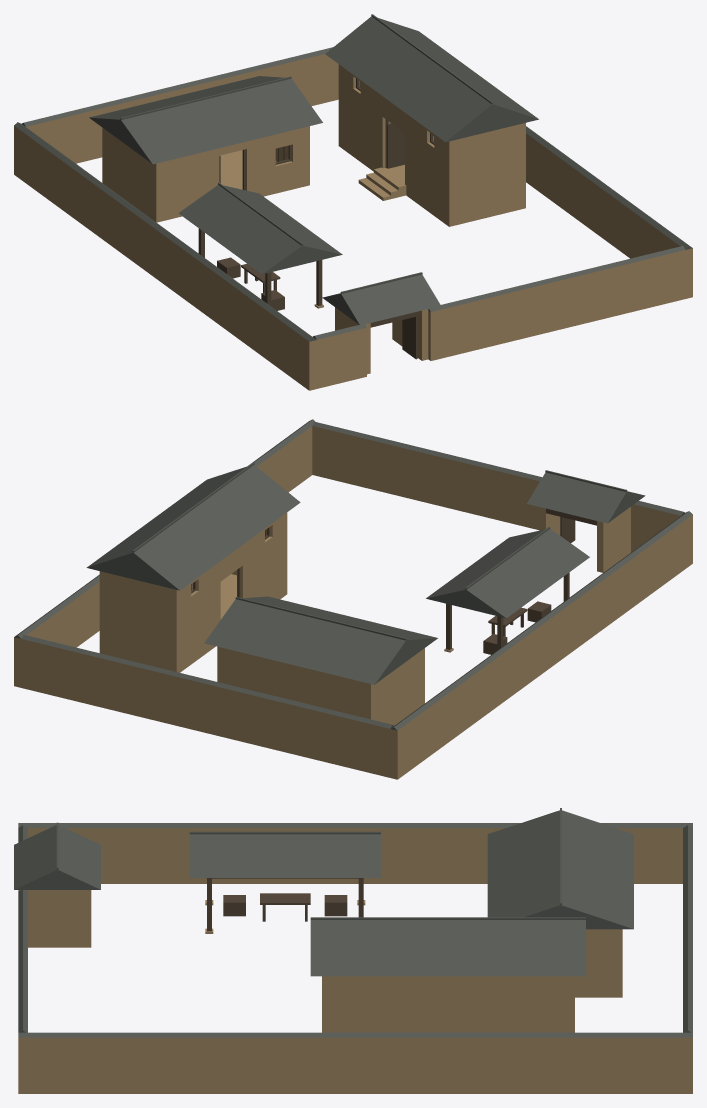
The model's file is court-B-LOD2.glb.
3 renders of one model, top to bottom at view 1: azimuth 30°, elevation 25°; view 2: azimuth 150°, elevation 25°; view 3: azimuth 270°, elevation 25°, orthographic. The views are drawn at different scales.
Visible parts, largest first — view 1: court-B-static_earth, court-B-static_tile, court-B-static_timber; view 2: court-B-static_earth, court-B-static_tile, court-B-static_timber; view 3: court-B-static_earth, court-B-static_tile, court-B-static_timber.
Boxes of the visible parts, x1,y1,x2,y2 form: court-B-static_earth: (14,54,692,390); court-B-static_tile: (14,14,692,341); court-B-static_timber: (198,78,434,359); court-B-static_earth: (14,426,692,779); court-B-static_tile: (14,419,692,730); court-B-static_timber: (191,508,596,654); court-B-static_earth: (18,828,692,1093); court-B-static_tile: (14,808,692,1037); court-B-static_timber: (206,878,363,931).
Bounding box in the file's own units: 18 × 5.32 × 24.15.
